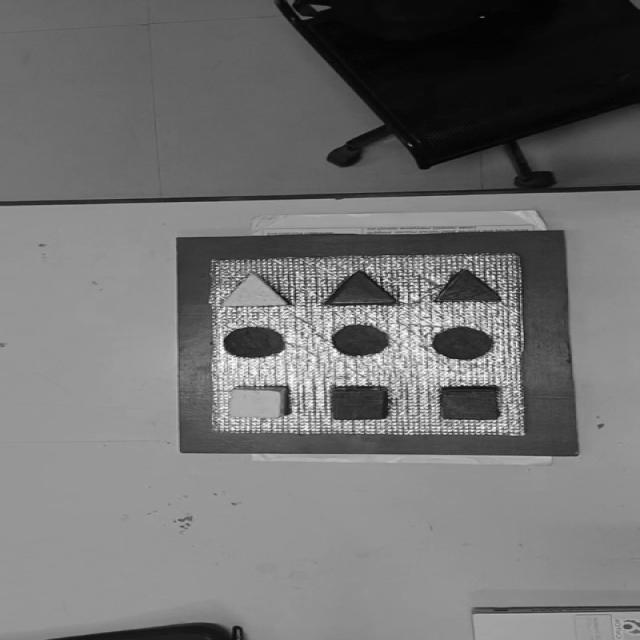bcube: (438, 386, 501, 420)
btriangle: (434, 268, 504, 303)
mtcircle: (431, 326, 494, 359), (330, 323, 391, 357), (223, 325, 285, 357)
rcube: (329, 386, 388, 420)
rtriangle: (325, 270, 397, 306)
wb: (204, 252, 529, 436)
ycube: (230, 388, 282, 418)
ytriangle: (218, 270, 290, 308)
